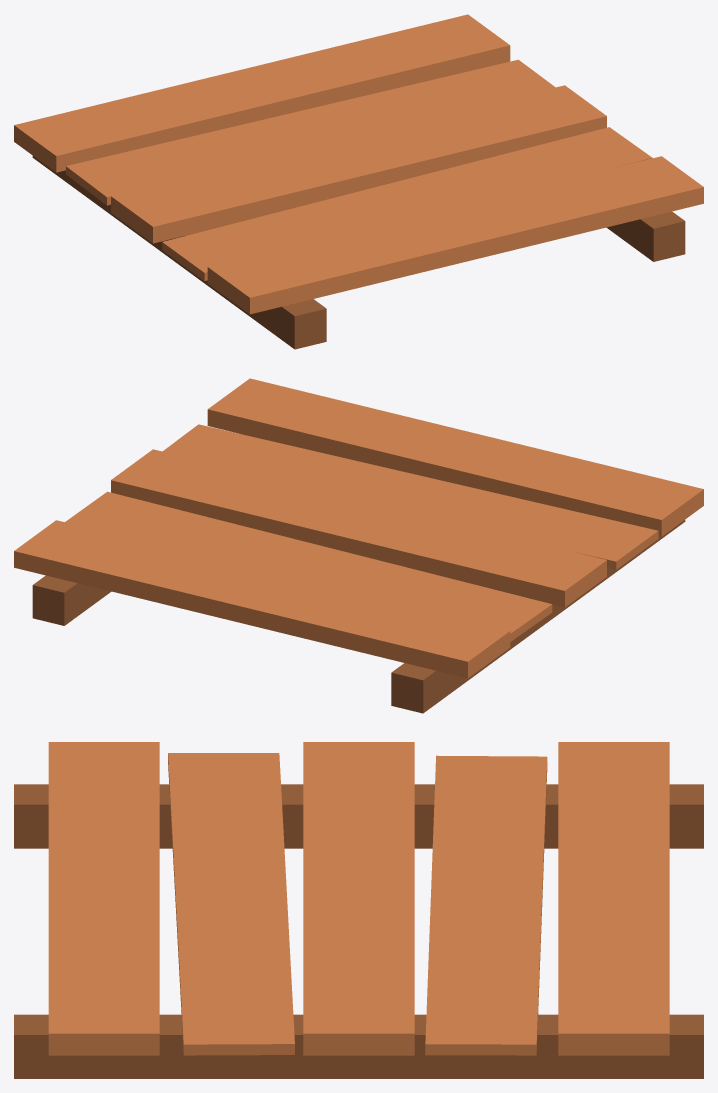
Rendered from platform.obj.
The picture shows the model from 3 angles, top to bottom: view 1: azimuth 30°, elevation 25°; view 2: azimuth 150°, elevation 25°; view 3: azimuth 270°, elevation 25°; orthographic projection. The views are drawn at different scales.
Visible parts, largest first — view 1: platform; view 2: platform; view 3: platform.
Boxes of the visible parts, x1,y1,x2,y2 form: platform: (14, 14, 703, 349); platform: (14, 378, 703, 713); platform: (14, 742, 703, 1078).
Size of the model in its own units: 1 by 0.105 by 1.
